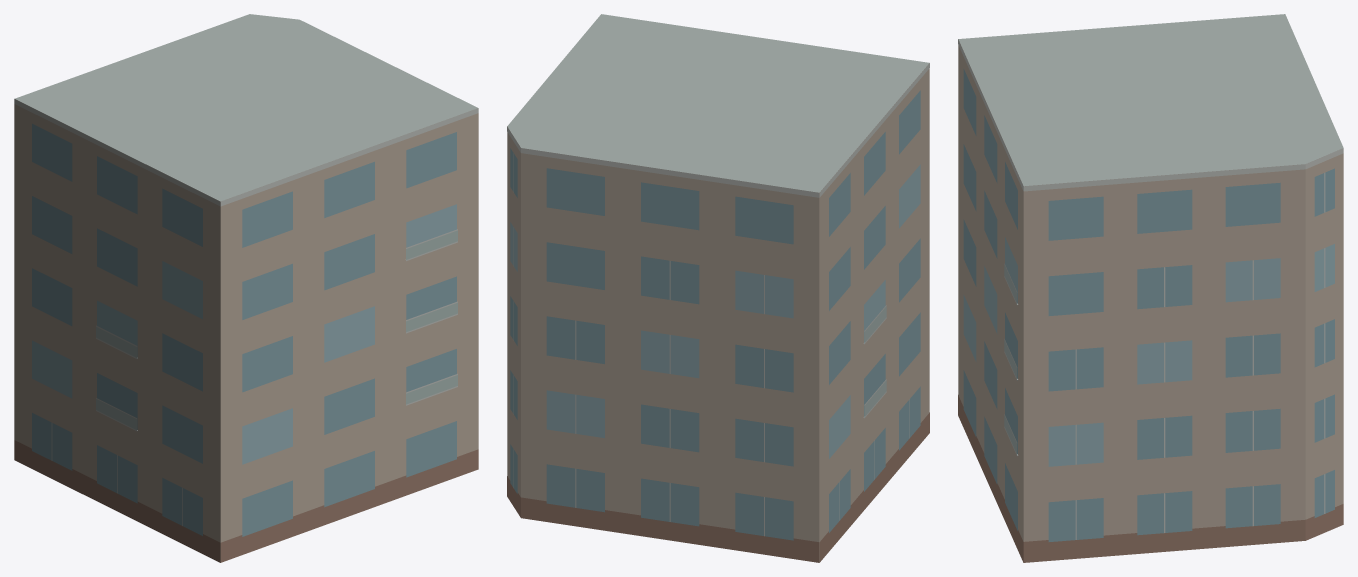
File: survey-upis-32734818.glb
3 renders of one model, left to right at view 1: azimuth 30°, elevation 25°; view 2: azimuth 150°, elevation 25°; view 3: azimuth 270°, elevation 25°, orthographic. The views are drawn at different scales.
Visible parts, largest first — view 1: survey-upis-32734818.tmp; view 2: survey-upis-32734818.tmp; view 3: survey-upis-32734818.tmp.
Part boxes in pixels (x1,y1,x2,y2): survey-upis-32734818.tmp: (14,14,478,562); survey-upis-32734818.tmp: (507,14,929,562); survey-upis-32734818.tmp: (958,14,1343,562).
Size of the model in its own units: 17.15 by 17.48 by 16.22.
